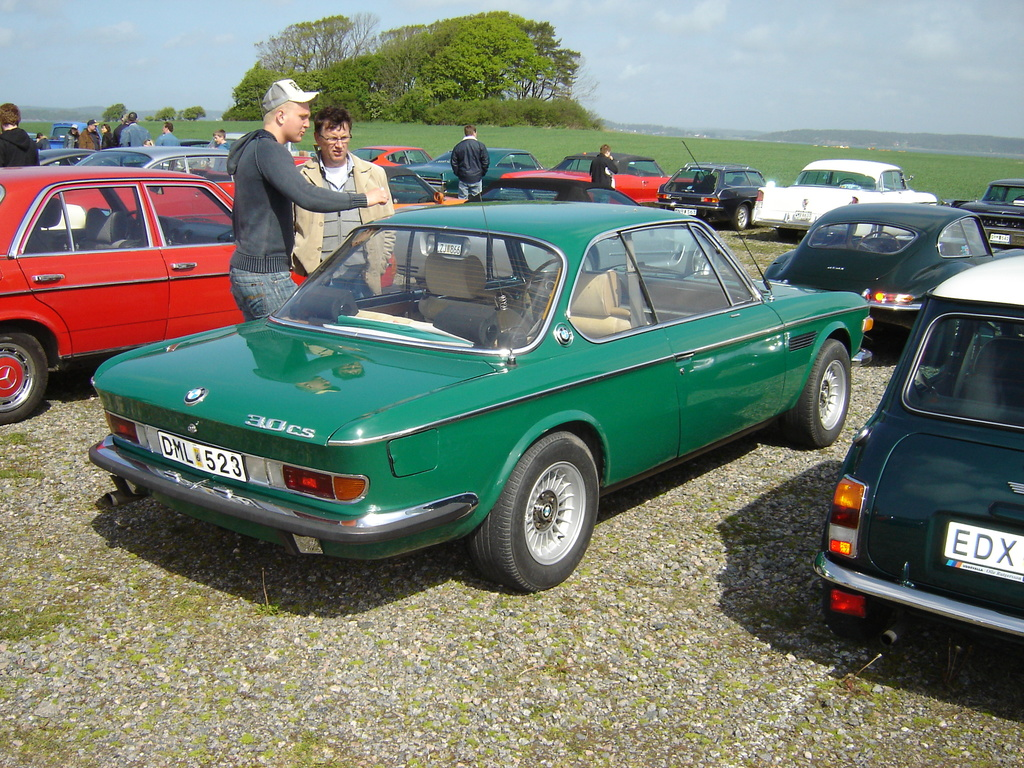mobil: (148, 201, 886, 610)
